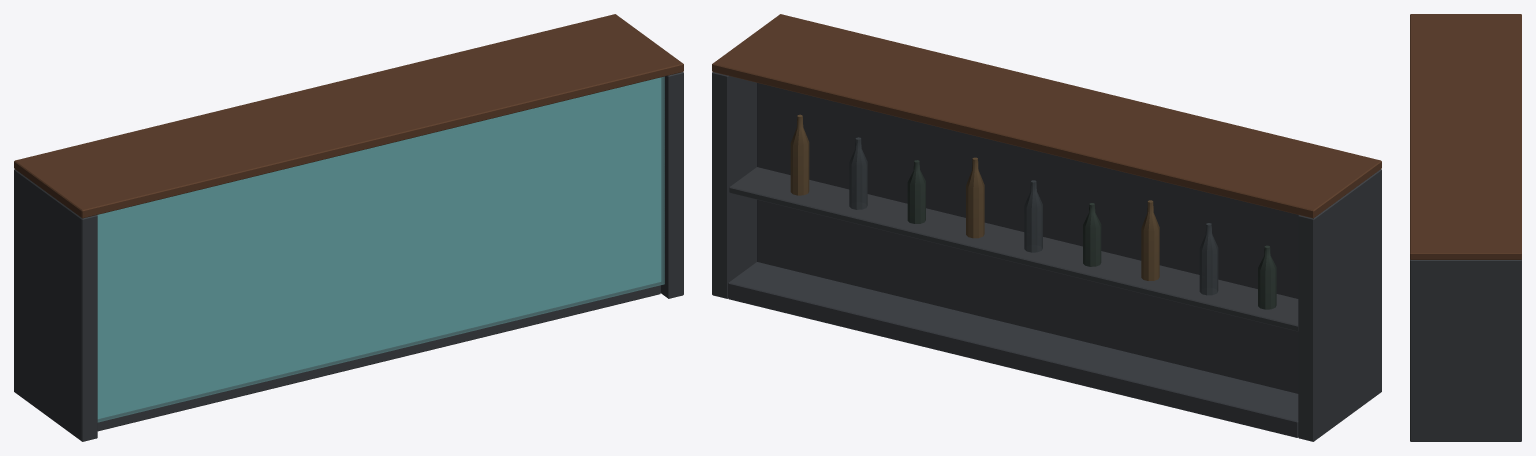
File: prop_bar_lounge_w300.glb
3 views of the same model, side by side, from view 1: azimuth 30°, elevation 25°; view 2: azimuth 150°, elevation 25°; view 3: azimuth 270°, elevation 25° (orthographic). The views are drawn at different scales.
Visible parts, largest first — view 1: Bar; view 2: Bar; view 3: Bar.
Part boxes in pixels (x1,y1,x2,y2): Bar: (14,14,683,441); Bar: (712,14,1381,441); Bar: (1410,14,1521,441).
Size of what is drawn, in the model's own units: 2.99 by 1.1 by 0.59.
